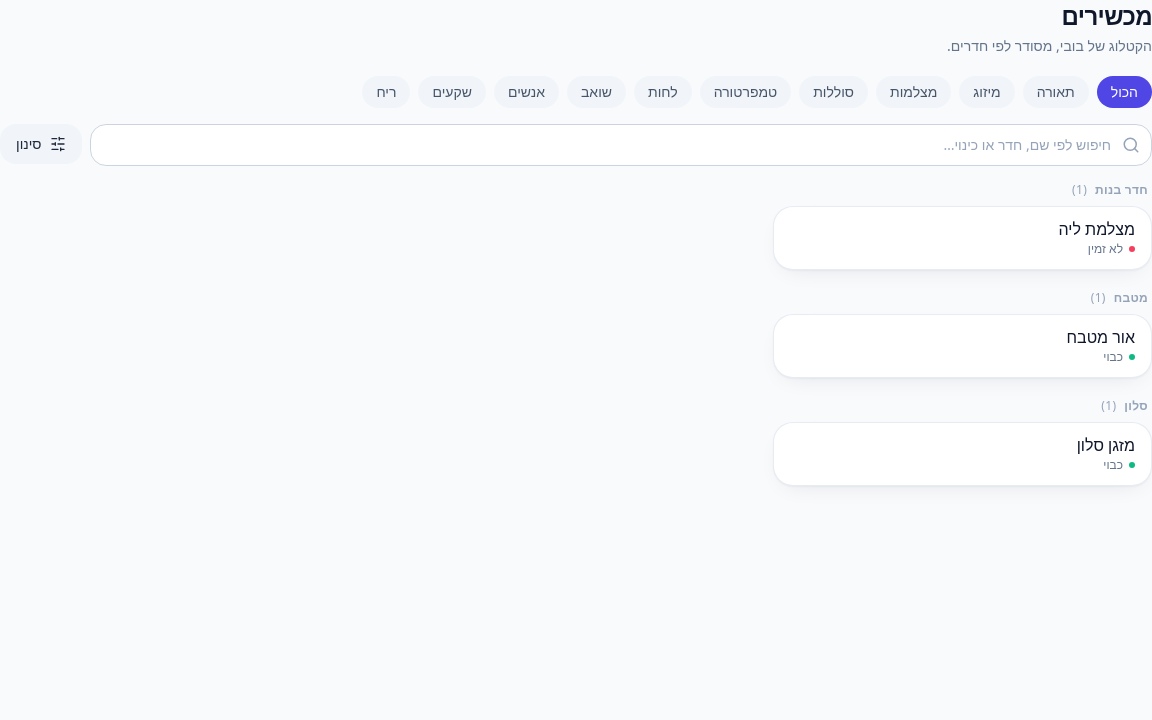
Test case: DevicesPage › shows the domain-specific limits the bridge sends
Step 1. Click the text "מזגן סלון" → (1106,445), box [1077, 434, 1135, 456]
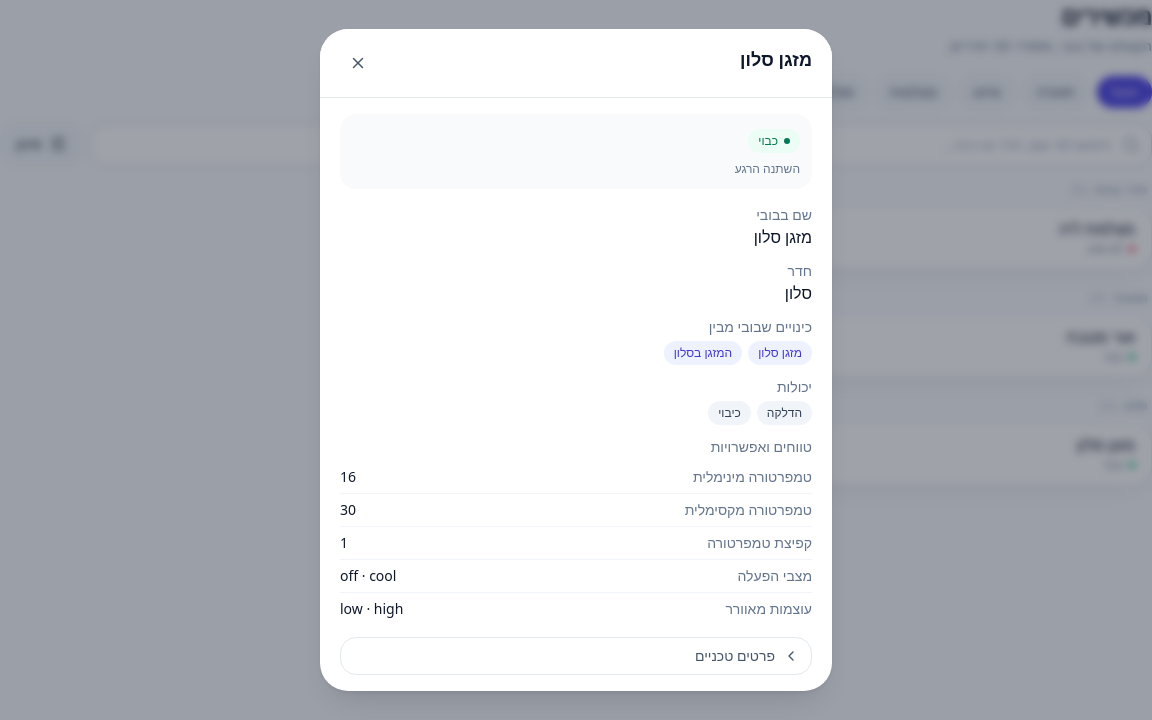
Check: the text "טווחים ואפשרויות" is shown, box [711, 437, 812, 456]
Check: the text "טמפרטורה מינימלית" is shown, box [693, 467, 812, 487]
Check: the text "16" is shown, box [340, 467, 356, 487]
